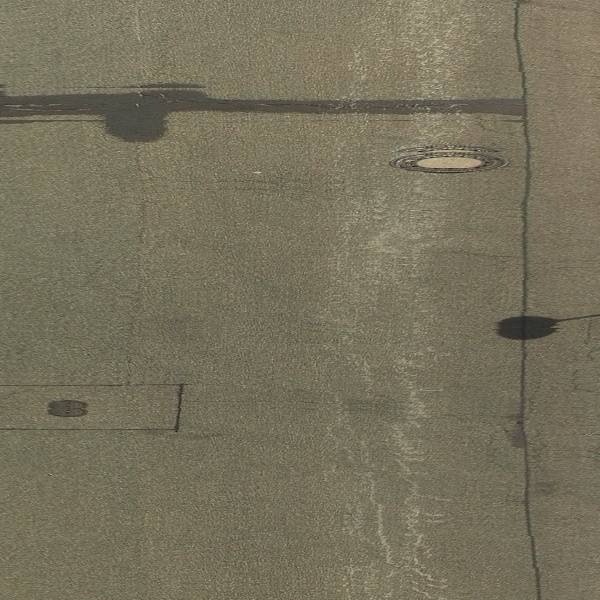road_damage: (1, 80, 539, 147), (1, 374, 199, 445)
